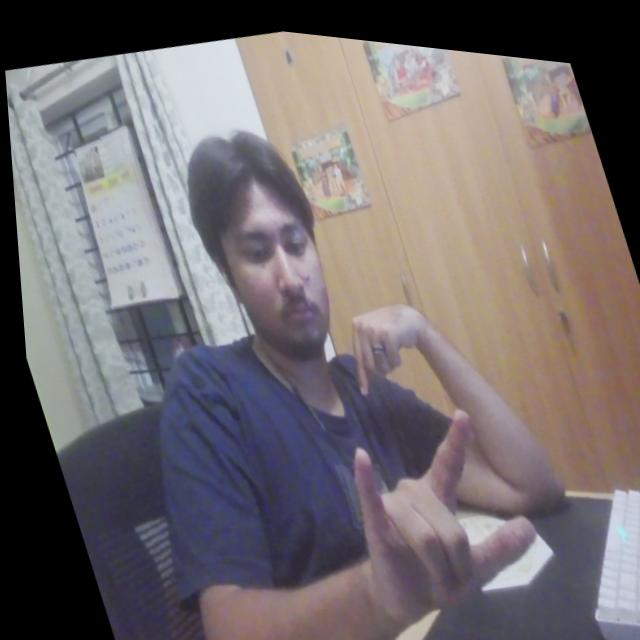iloveyou: (312, 373, 562, 640)
